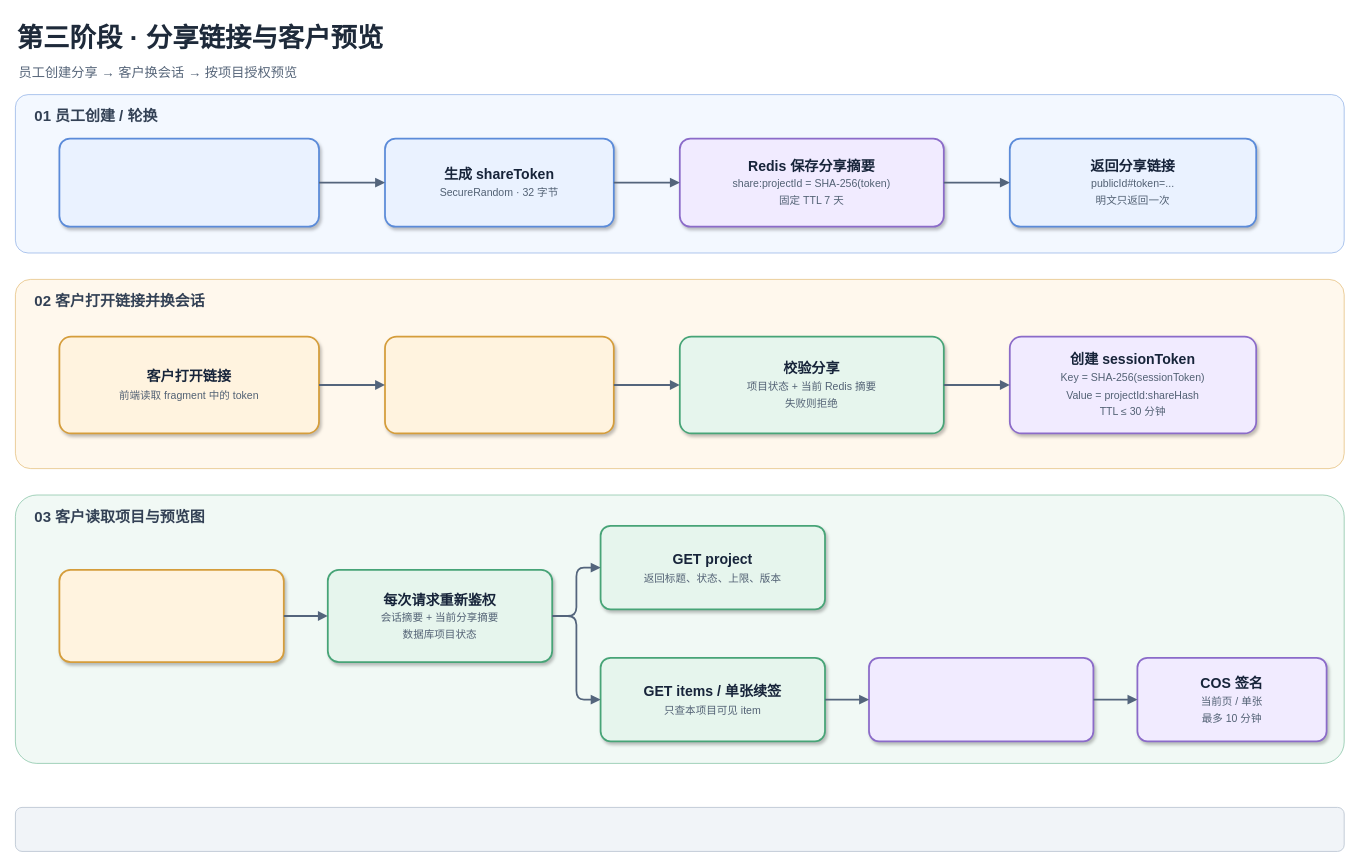
Image size: 1361x867. Some labels were removed from this diagram. Here are the shapes that lost their labels. From the top down, the centre of each, then its label:
At point 190,183: "项目鉴权 项目反查 spaceId proofing:manage + 状态".
At point 500,386: "POST /public/session 提交 publicId + shareToken".
At point 172,617: "携带客户会话 X-Proofing-Session 请求头 前端已清除地址栏令牌".
At point 981,700: "资产白名单 本项目 + READY PREVIEW 仍被可见 item 引用".
At point 679,829: "轮换会覆盖旧摘要，撤销会删除分享 Key：旧链接与旧会话的新请求失效。已签发的 COS URL 仍可能有效至自身到期。".
